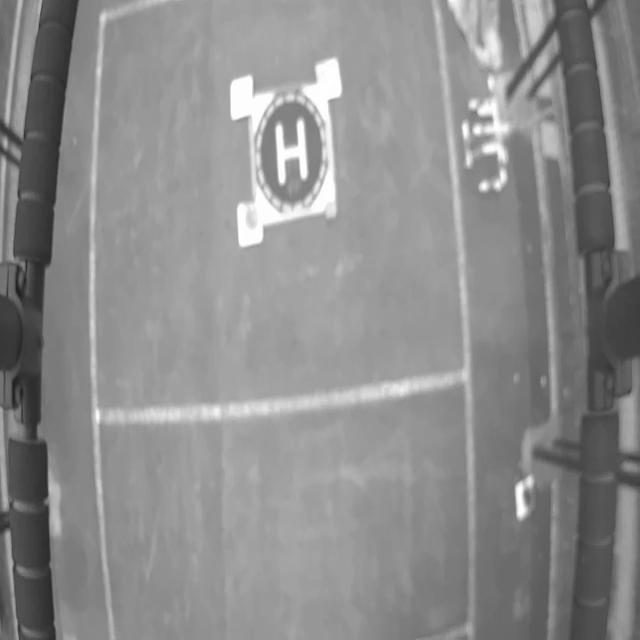Helipad: (275, 118, 310, 188)
